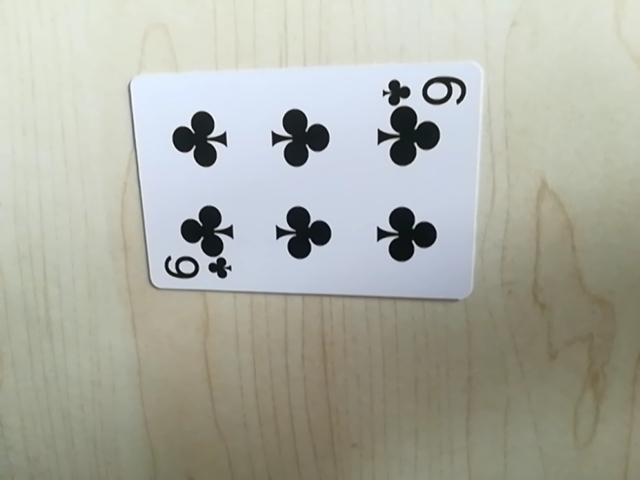mh 6: (381, 72, 465, 110), (158, 254, 232, 288)
